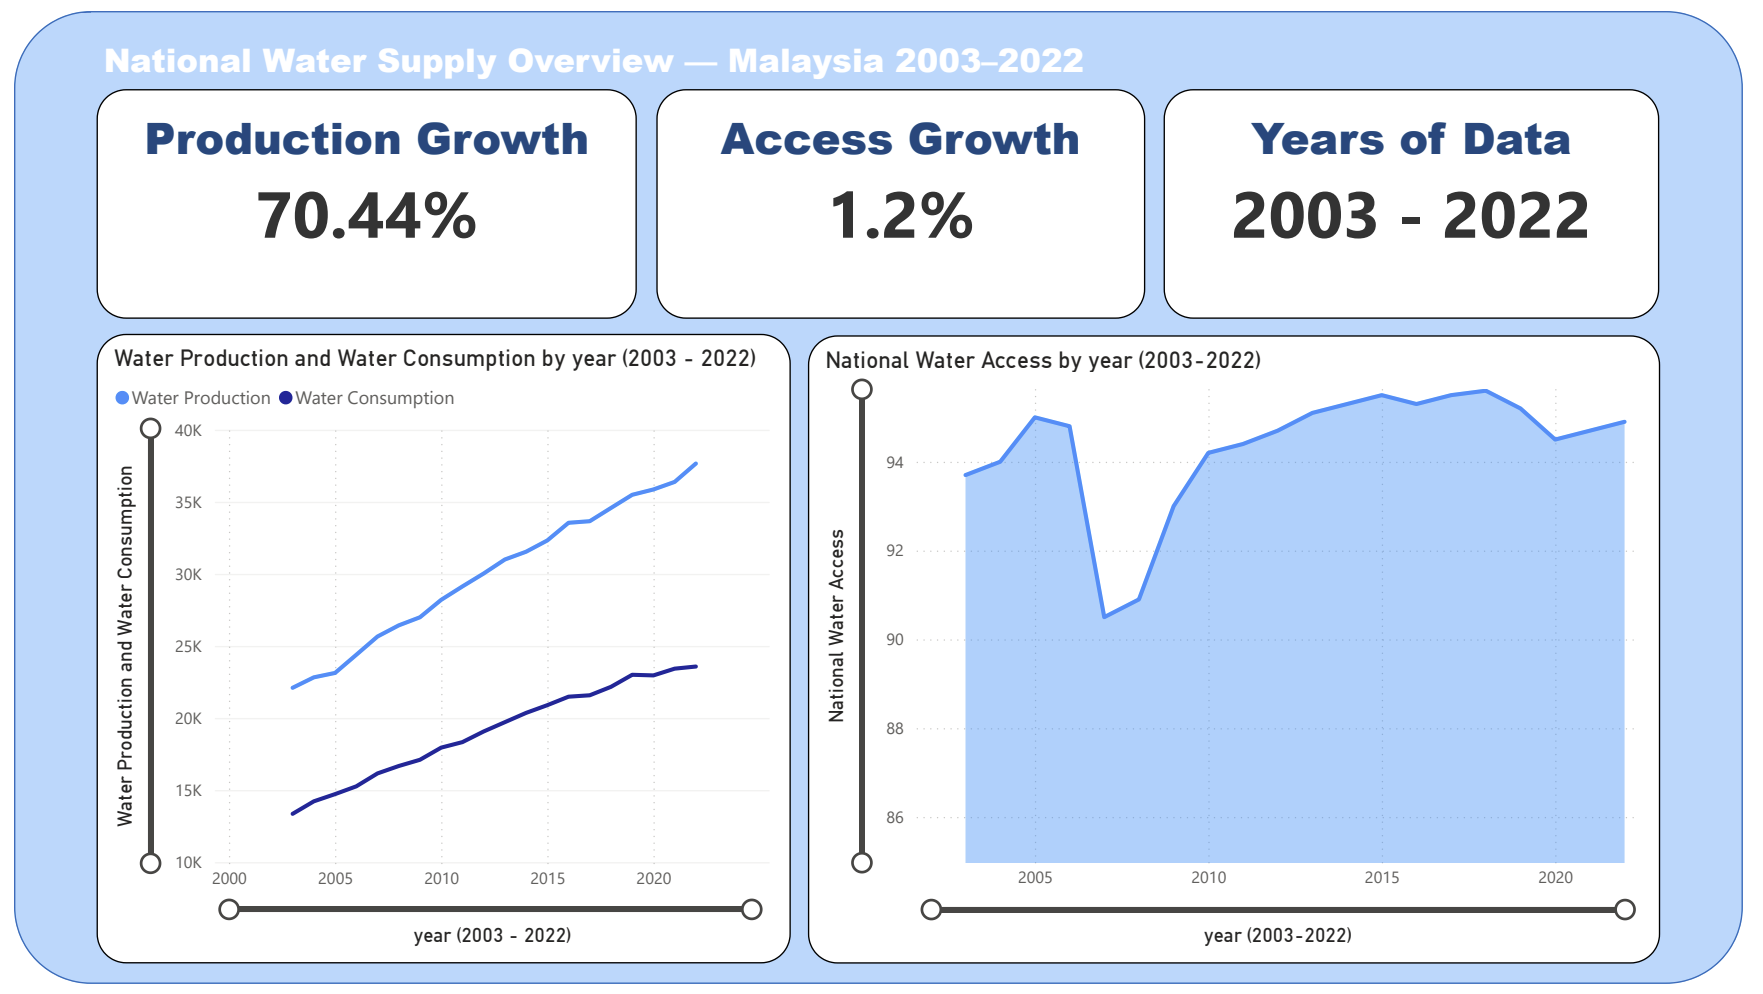

The dashboard page shown, as its layout file describes it:
{"tool":"powerbi","page":{"name":"National Water Access Overview","canvas":[1280,720],"ordinal":0},"visuals":[{"type":"shape","box":[0,0,1280,720],"z":0},{"type":"lineChart","fields":{"Category":["Production and Consumption.year"],"Y":["Sum(Production and Consumption.total_production)","Sum(Production and Consumption.total_consumption)"]},"box":[60.8,238.6,513.9,465.7],"z":1000},{"type":"lineChart","fields":{"Category":["Year-over-Year Access.year"],"Y":["Min(Year-over-Year Access.national_access)"]},"box":[587.8,239.6,630.6,464.7],"z":2000},{"type":"textbox","box":[60.9,57.4,400.3,170],"z":3000},{"type":"textbox","box":[475.3,57.4,362.1,170],"z":4000},{"type":"textbox","box":[851.5,57.4,367.1,170],"z":5000},{"type":"textbox","box":[61.1,14.4,754.4,43.3],"z":6000}]}

Visuals, with their boxes in screenshot pixels (x1, y1, x2, y2), scaled from the page's 1280x720 canvas onto the 1763x994 screenshot:
shape: 0:0:1762:993
lineChart - Production and Consumption.year x Sum(Production and Consumption.total_production): 84:329:792:972
lineChart - Year-over-Year Access.year x Min(Year-over-Year Access.national_access): 810:331:1678:972
textbox: 84:79:635:314
textbox: 655:79:1153:314
textbox: 1173:79:1678:314
textbox: 84:20:1123:80
